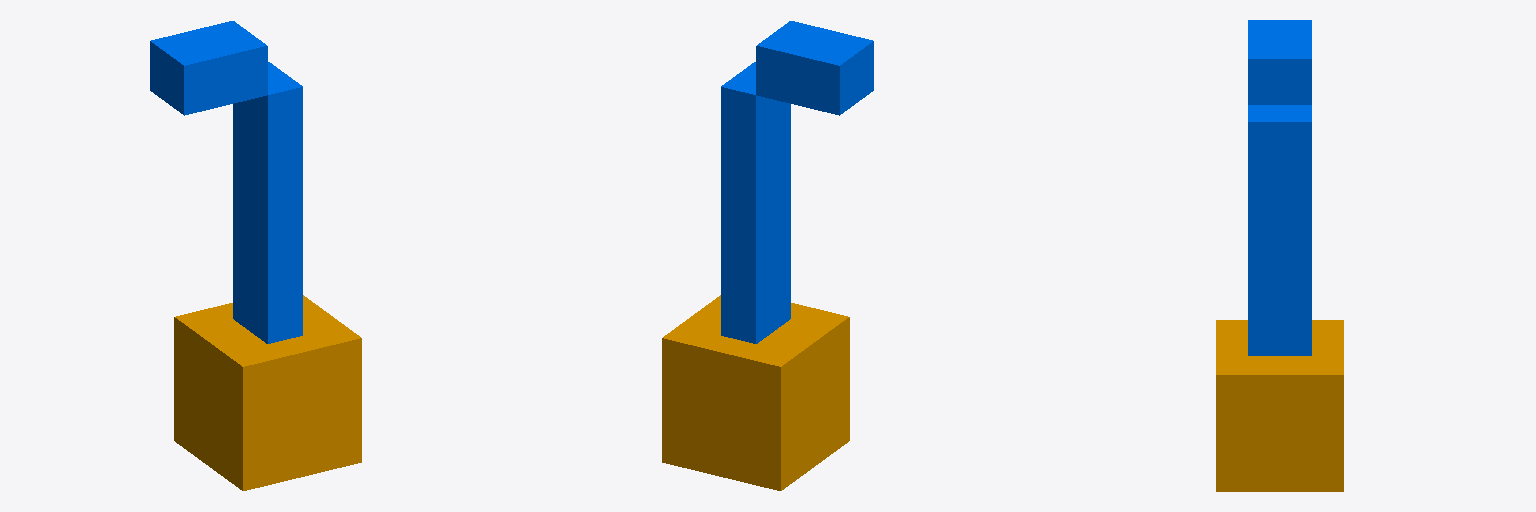
URDF robot description (trifasiko):
<?xml version="1.0"?>
<robot name="trifasiko">

	<link name="base_link">
		<inertial>
			<origin xyz="0.0 0.0 0.5" rpy="0.0 0.0 0.0" />
			<mass value="10000.0" />
			<inertia ixx="1.0" ixy="0.0" ixz="0.0" iyy="1.0" iyz="0.0" izz="1.0" />
		</inertial>

		<visual>
			<origin xyz="0.0 0.0 .5 " />
			<geometry>
				<box size="1.0 1.0 1.0" />
			</geometry>
		</visual>
		<collision>
			<origin xyz="0.0 0.0 0.5" rpy="0.0 0.0 0.0" />
			<geometry>
				<box size="1.0 1.0 1.0" />
			</geometry>
		</collision>

	</link>

	<material name="blue">
		<color rgba="0.0 0.50 1.0 1.0" />
		<texture filename="" />
	</material>

	<link name="long_arm">
		<inertial>
			<origin xyz="0.0 0.0 1" />
			<mass value="2.0" />
			<inertia ixx="1.0" ixy="0.0" ixz="0.0" iyy="1.0" iyz="0.0" izz="1.0" />
		</inertial>
		<visual name="">
			<origin xyz="0.0 0.0 2.0" rpy="0.0 0.0 0.0" />
			<geometry>
				<box size="0.3 0.5 2.0" />
			</geometry>
			<material name="blue" />
		</visual>
		<collision>
			<origin xyz="0.0 0.0 2.0" rpy="0.0 0.0 0.0" />
			<geometry>
				<box size="0.3 0.5 2.0" />
			</geometry>
		</collision>
	</link>
	<joint name="base_to_long" type="revolute">
		<parent link="base_link" />
		<child link="long_arm" />
		<origin xyz="0.0 0.0 0.0" rpy="0.0 0.0 0.0" />
		<dynamics damping="0.0" friction="0.00001" />
		<axis xyz="1.0 0.0 0.0" />

        <limit lower="-0.14" upper="0.14" effort="10.0" velocity="0.5" />
	</joint>

	<link name="short_arm">
		<inertial>
			<origin xyz="0.0 0.0 4" />
			<mass value="200.0" />
			<inertia ixx="1.0" ixy="0.0" ixz="0.0" iyy="1.0" iyz="0.0" izz="1.0" />
		</inertial>
		<visual name="">
			<origin xyz="-0.5 0.0 3.2" rpy="0.0 0.0 0.0" />
			<geometry>
				<box size="0.7 0.5 0.4" />
			</geometry>
			<material name="blue" />
		</visual>	
		<collision>
			<origin xyz="-0.5 0.0 3.2" rpy="0.0 0.0 0.0" />
			<geometry>
				<box size="0.7 0.5 0.4" />
			</geometry>
		</collision>
	</link>
	<joint name="long_to_short" type="revolute">
		<parent link="long_arm" />
		<child link="short_arm" />
		<origin xyz="0.0 0.0 0.0" rpy="0.0 0.0 0.0" />
		<dynamics damping="0.0" friction="0.00001" />
		<axis xyz="0.0 0.0 1.0" />

		<limit lower="-1.0" upper="1.0" effort="1000.0" velocity="0.5" />
	</joint>
</robot>

--- What the picture shows (computed from the rendered views, not written in the file) ---
The picture shows the robot from 3 angles, left to right: view 1: azimuth 30°, elevation 25°; view 2: azimuth 150°, elevation 25°; view 3: azimuth 270°, elevation 25°; orthographic projection.
Robot: trifasiko — 3 links, 2 joints (2 revolute); root link base_link; default pose: every joint at zero.
Visible links, largest first — view 1: base_link, long_arm, short_arm; view 2: base_link, long_arm, short_arm; view 3: base_link, long_arm, short_arm.
Boxes of the visible links, left/top/right/bottom form: base_link: left=174, top=295, right=361, bottom=490; long_arm: left=233, top=62, right=302, bottom=343; short_arm: left=150, top=21, right=267, bottom=115; base_link: left=662, top=295, right=849, bottom=490; long_arm: left=721, top=62, right=790, bottom=343; short_arm: left=756, top=21, right=873, bottom=115; base_link: left=1216, top=320, right=1343, bottom=491; long_arm: left=1248, top=105, right=1311, bottom=355; short_arm: left=1248, top=20, right=1311, bottom=104.
Bounding box of the posed robot: 1.35 × 1 × 3.4 m (x, y, z).
Geometry: primitives only (box / cylinder / sphere), no mesh files.